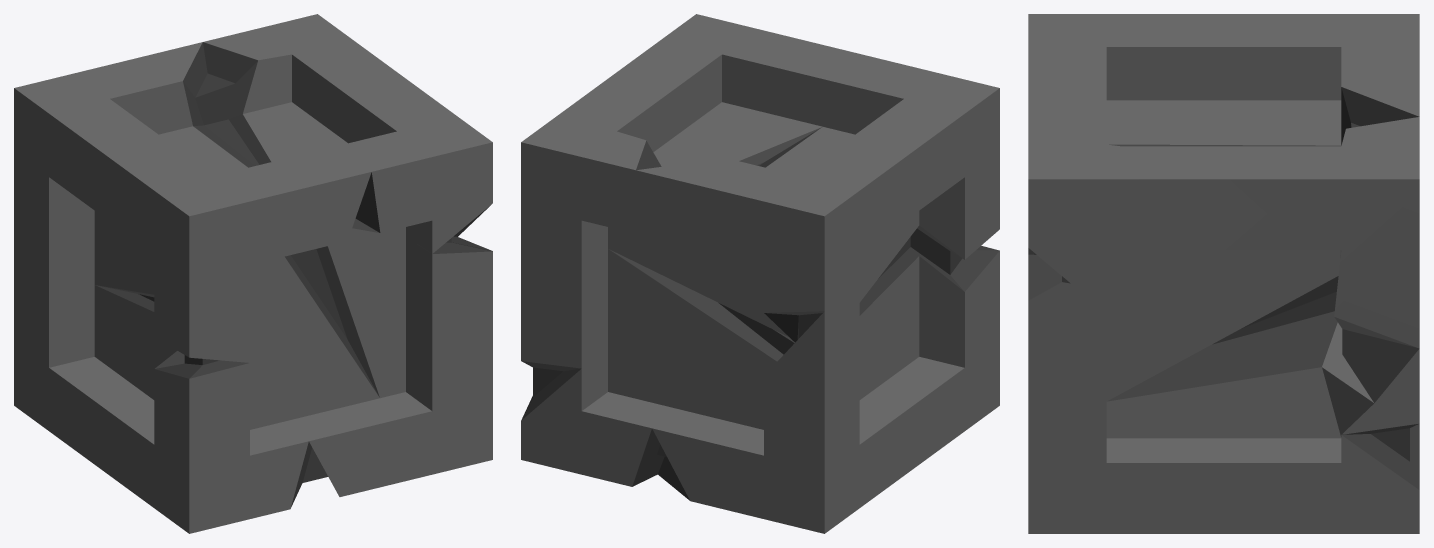
The model's file is stoneNEWDAMAGED 1.fbx.
3 renders of one model, left to right at view 1: azimuth 30°, elevation 25°; view 2: azimuth 150°, elevation 25°; view 3: azimuth 270°, elevation 25°, orthographic. The views are drawn at different scales.
Visible parts, largest first — view 1: Cube.001; view 2: Cube.001; view 3: Cube.001.
Part boxes in pixels (x1,y1,x2,y2): Cube.001: (14, 14, 492, 533); Cube.001: (521, 14, 999, 533); Cube.001: (1028, 14, 1419, 533).
Size of the model in its own units: 201 by 200 by 200.
